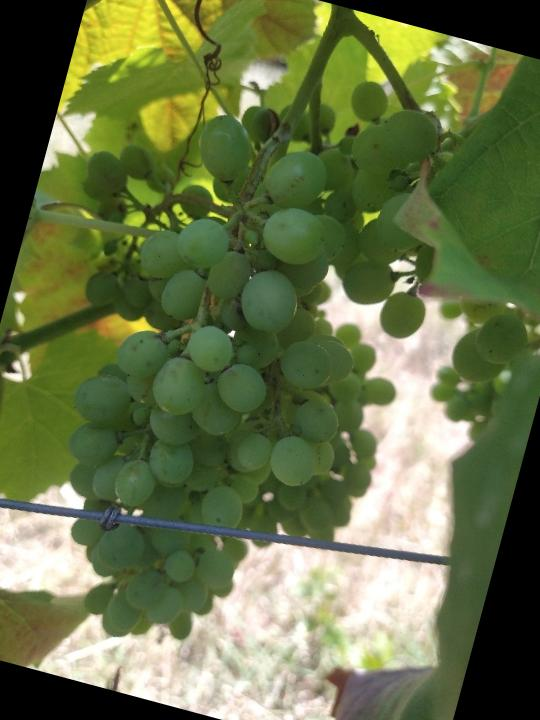grape: (0, 13, 480, 697)
